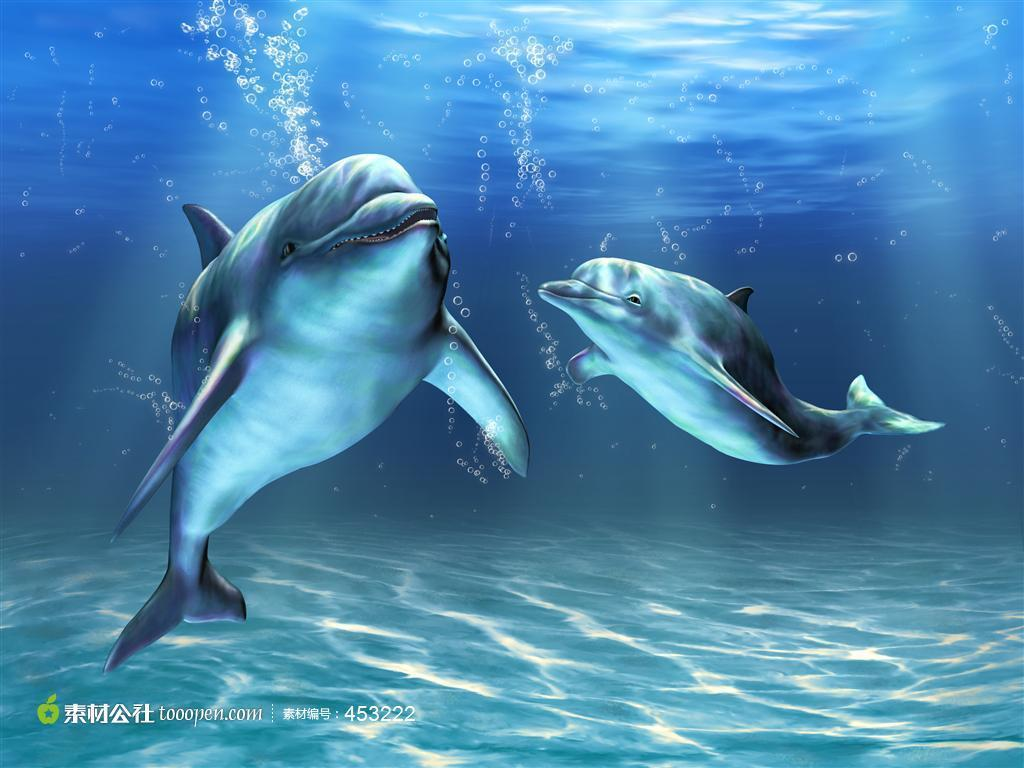fish: (102, 152, 530, 677), (537, 256, 948, 471)
